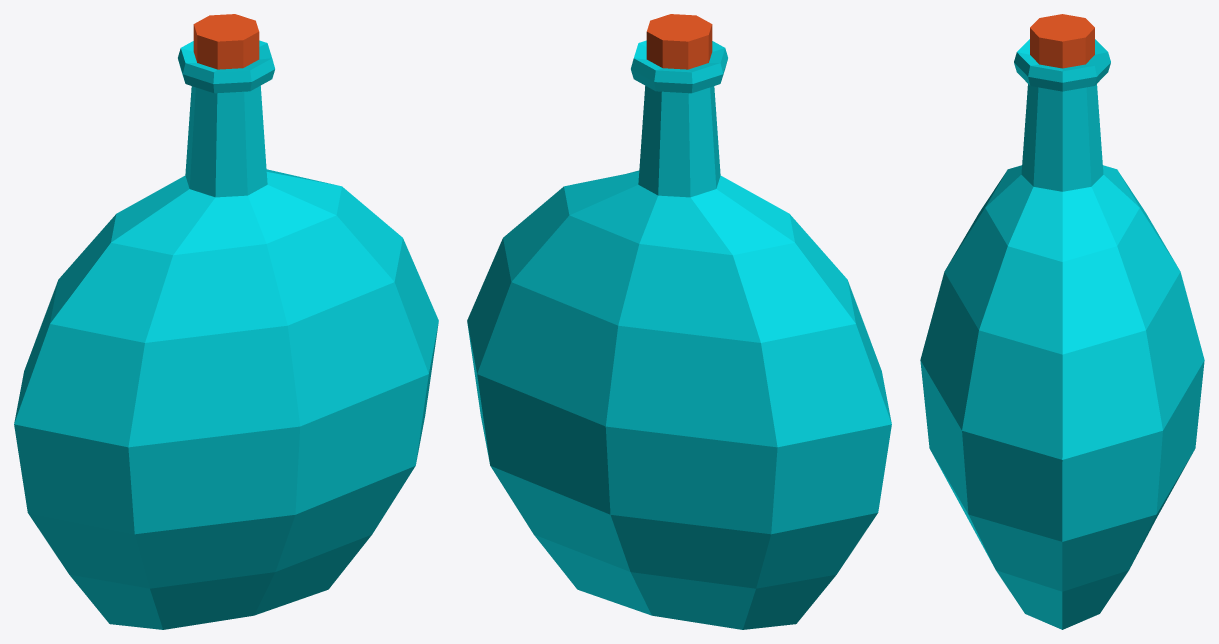
The model's file is Pocao1.fbx.
3 views of the same model, side by side, from view 1: azimuth 30°, elevation 25°; view 2: azimuth 150°, elevation 25°; view 3: azimuth 270°, elevation 25° (orthographic). The views are drawn at different scales.
Parts seen in each view (by area): view 1: Pocao1; view 2: Pocao1; view 3: Pocao1.
Boxes of the visible parts, x1=… form: Pocao1: x1=14, y1=14, x2=438, y2=629; Pocao1: x1=467, y1=14, x2=891, y2=629; Pocao1: x1=920, y1=14, x2=1204, y2=629.
Size of the model in its own units: 15.18 by 19.39 by 9.13.
